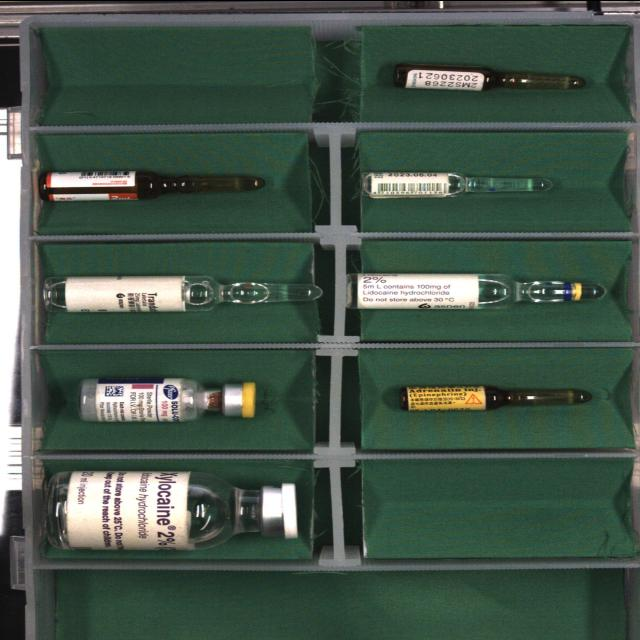Vials: (49, 470, 298, 549), (79, 378, 255, 420)
